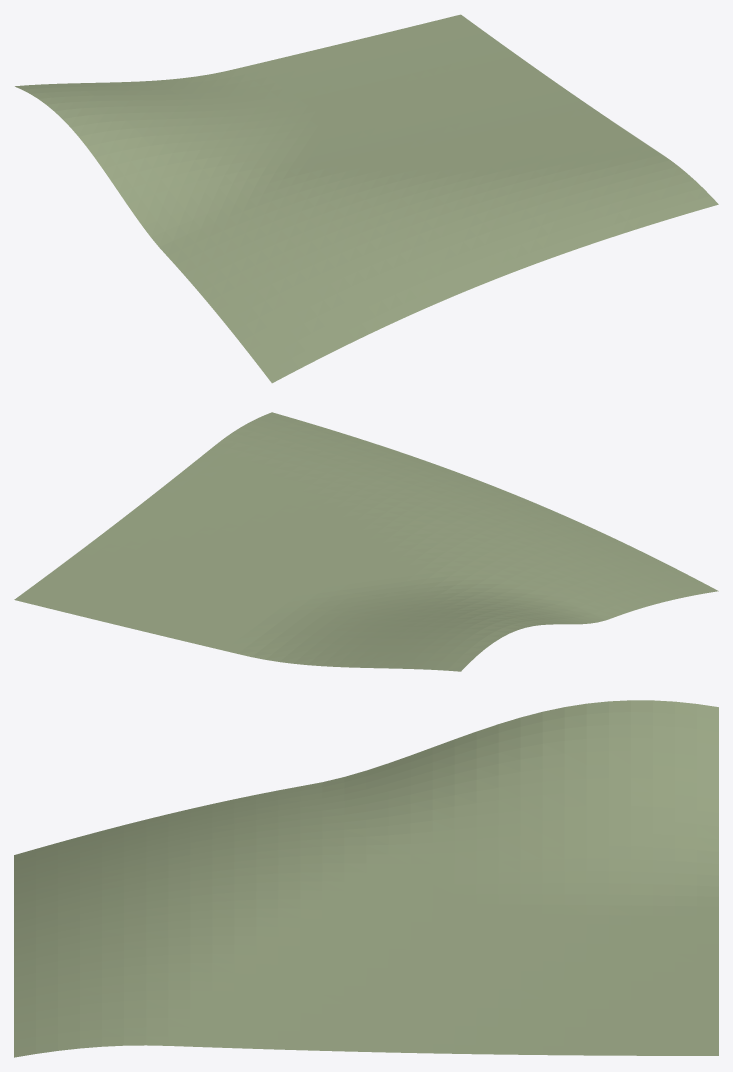
File: desert-25-21.glb
3 views of the same model, one above another, from view 1: azimuth 30°, elevation 25°; view 2: azimuth 150°, elevation 25°; view 3: azimuth 270°, elevation 25° (orthographic). The views are drawn at different scales.
Visible parts, largest first — view 1: desert-25-21; view 2: desert-25-21; view 3: desert-25-21.
Boxes of the visible parts, bbox=[...] form: desert-25-21: bbox=[15, 14, 718, 383]; desert-25-21: bbox=[14, 412, 718, 671]; desert-25-21: bbox=[14, 700, 718, 1057].
Bounding box in the file's own units: 512 × 124 × 512.
